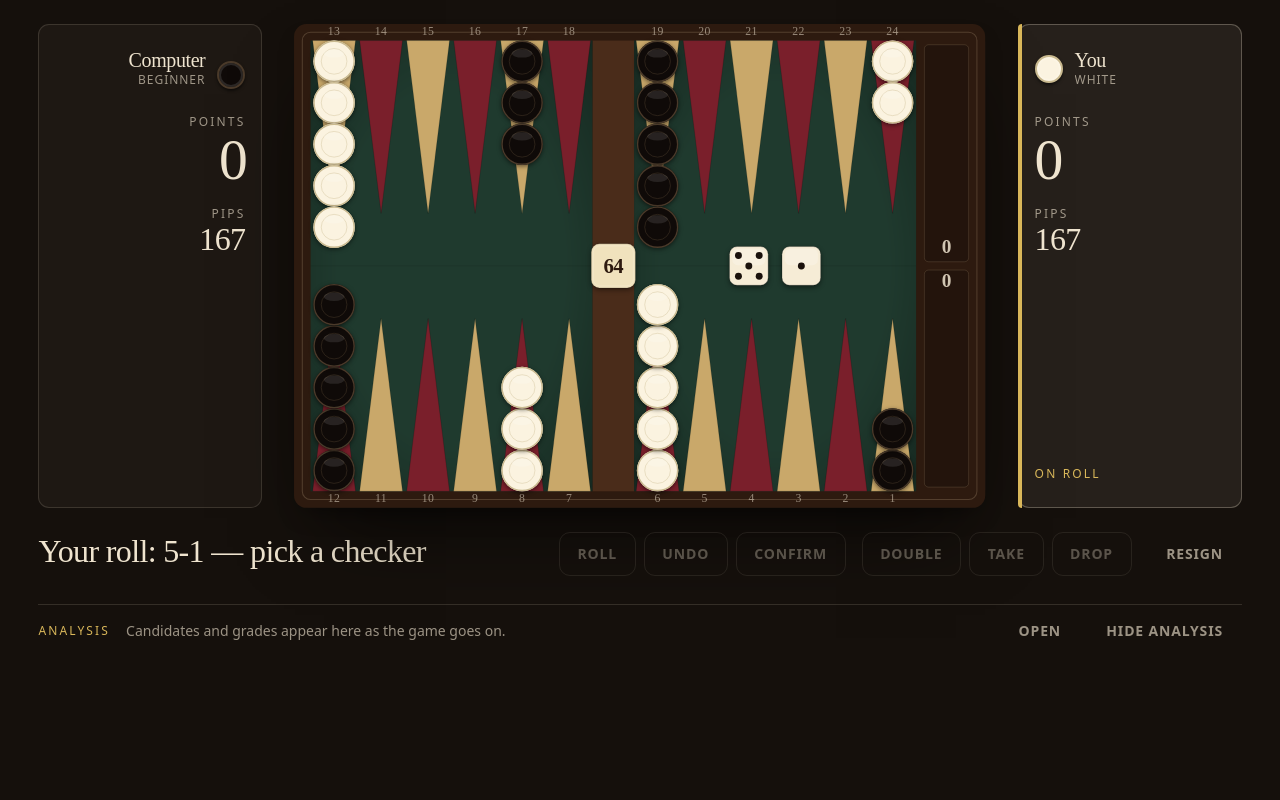
it: <TableLayout> › offers Retry after an engine failure and keeps the error until it succeeds
This screenshot has width=1280, height=800.
Expected: the button "Retry" is not shown
Click the button named "Point 13": point(334, 153) [311, 41, 358, 266]
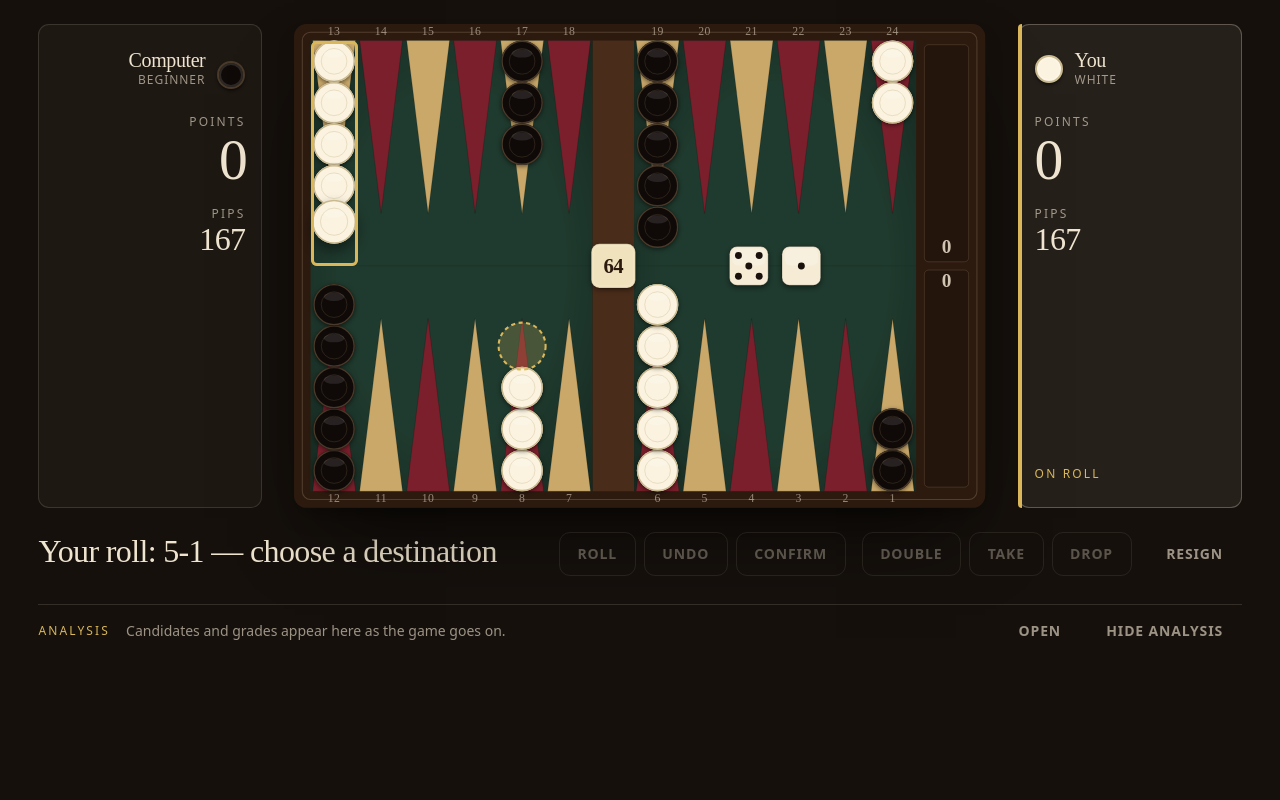
Click the button named "Point 8": point(522, 379) [499, 266, 546, 491]
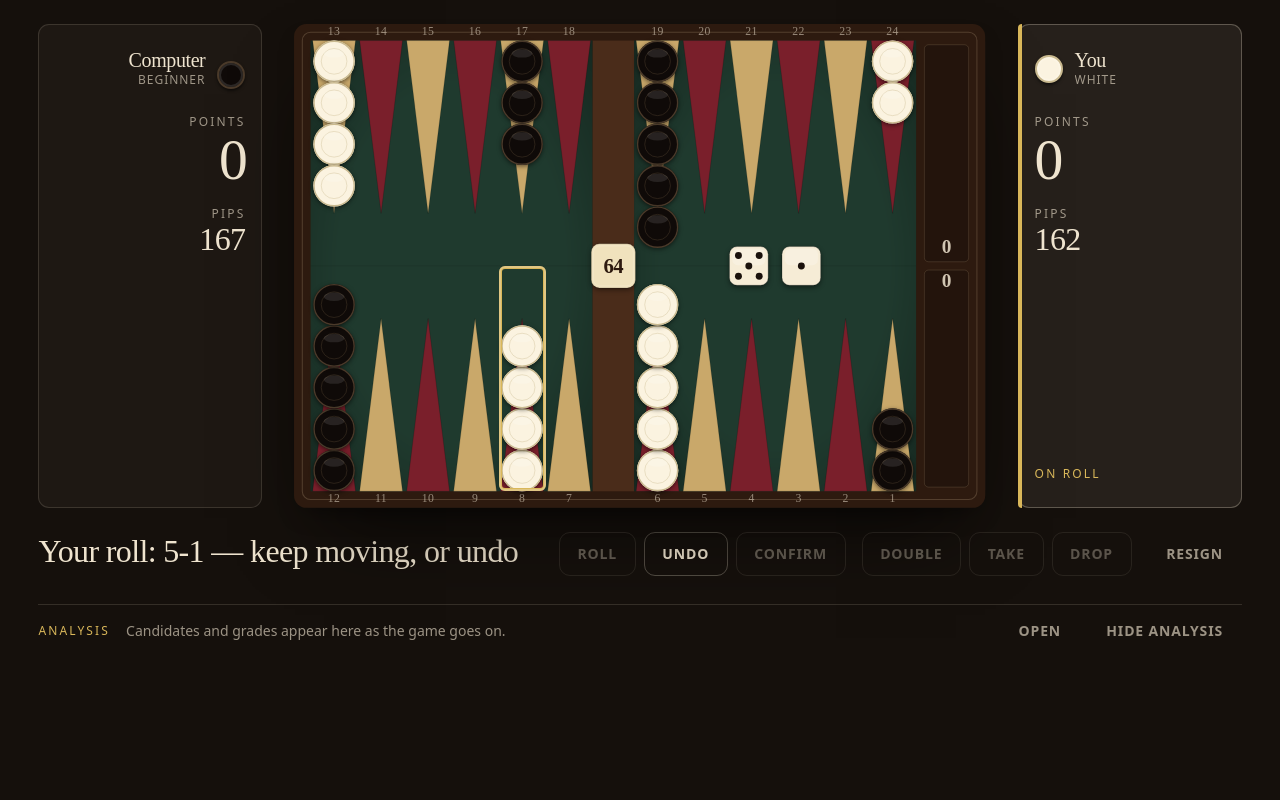
Click the button named "Point 6": point(658, 379) [634, 266, 682, 491]
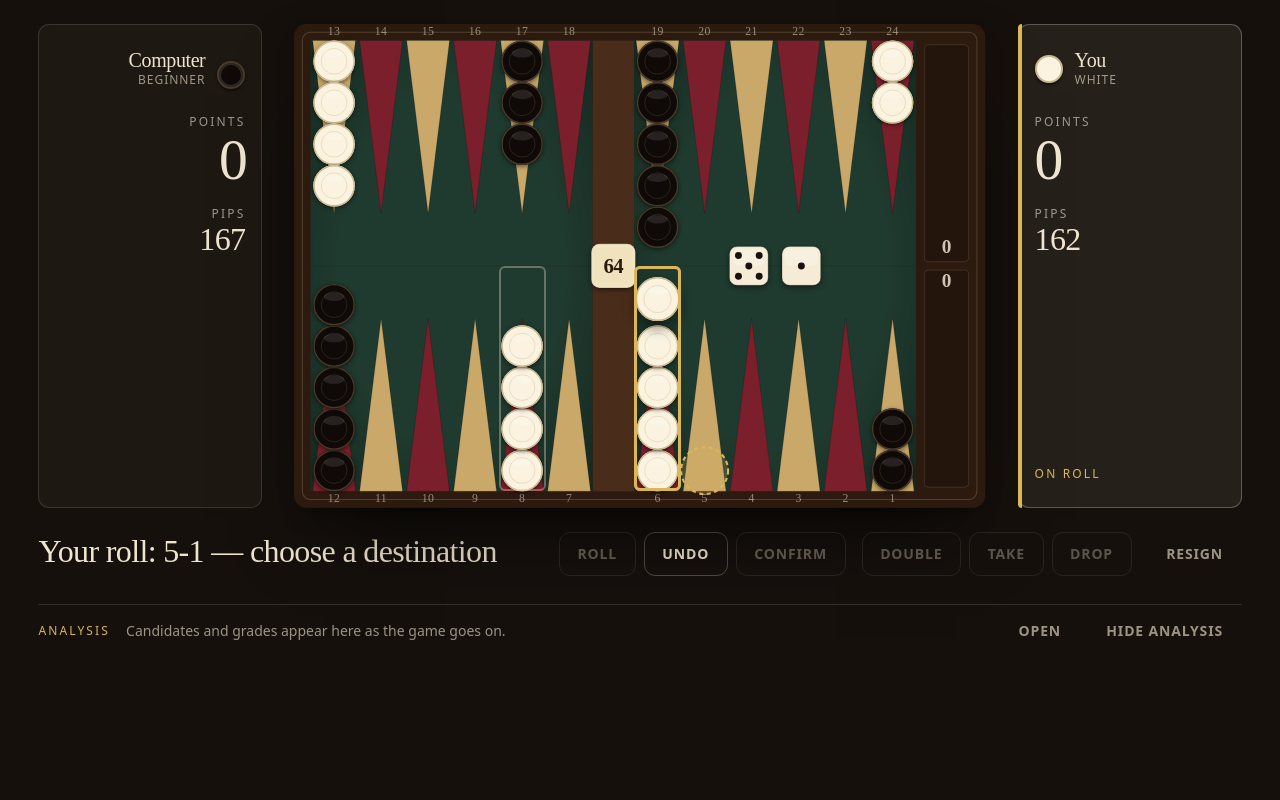
Click the button named "Point 5": point(705, 379) [682, 266, 728, 491]
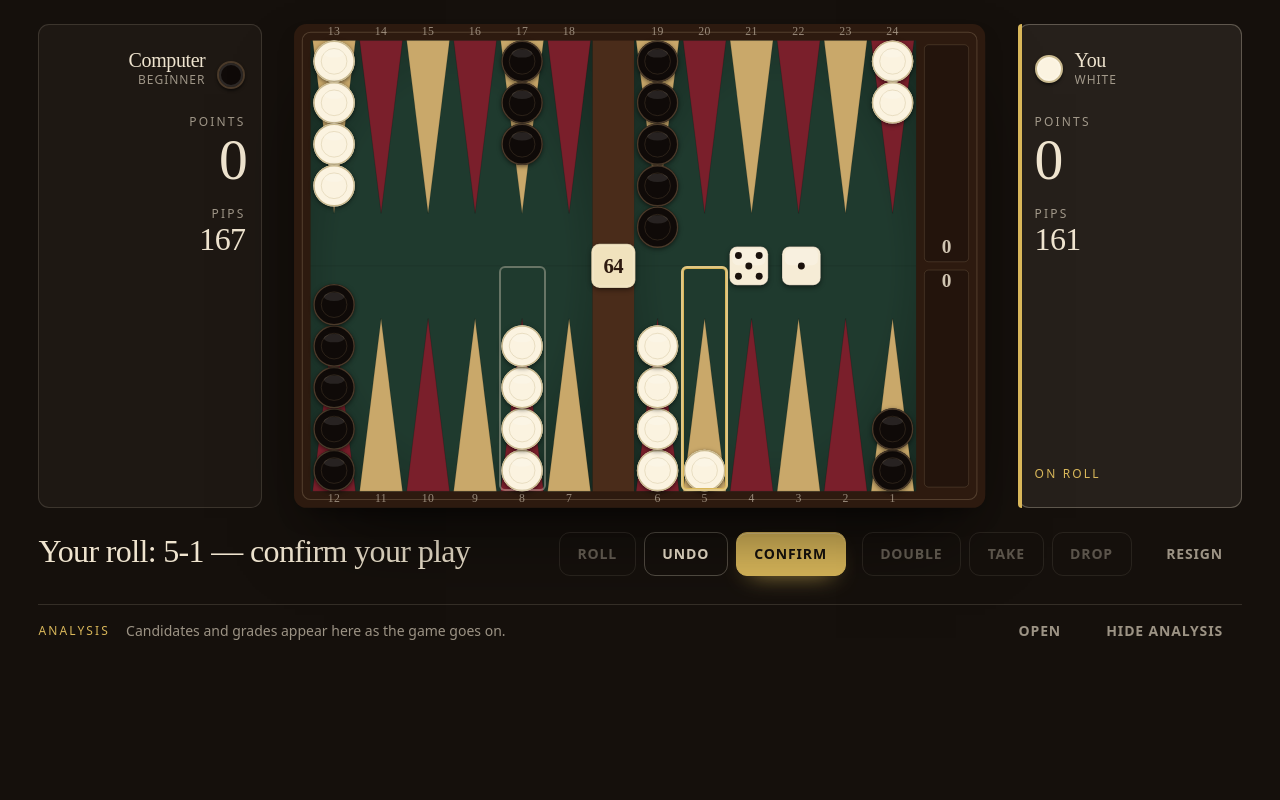
Click the button "Confirm": point(791, 554) [736, 532, 846, 576]
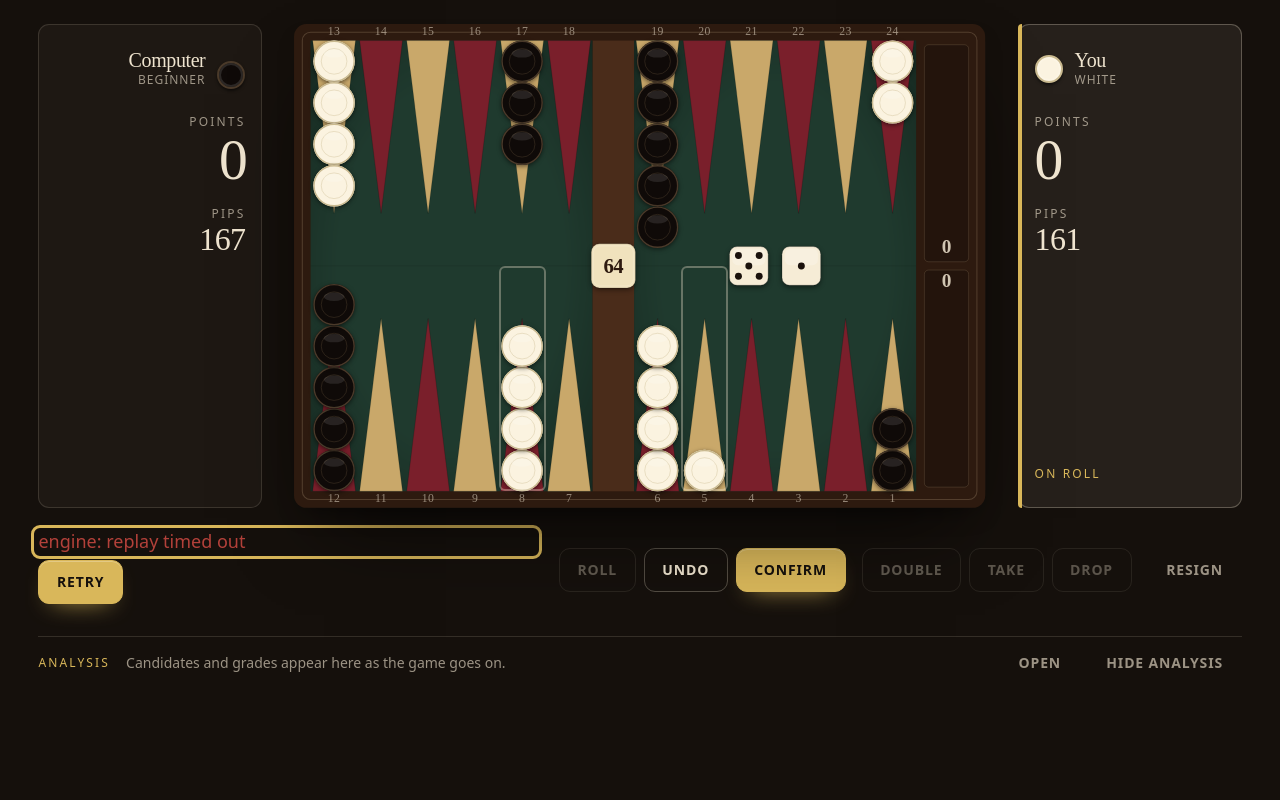
Expected: the message shows "replay timed out", [38, 529, 246, 553]
Expected: the button "Retry" is enabled
Click the button "Retry": point(81, 582) [38, 560, 123, 604]
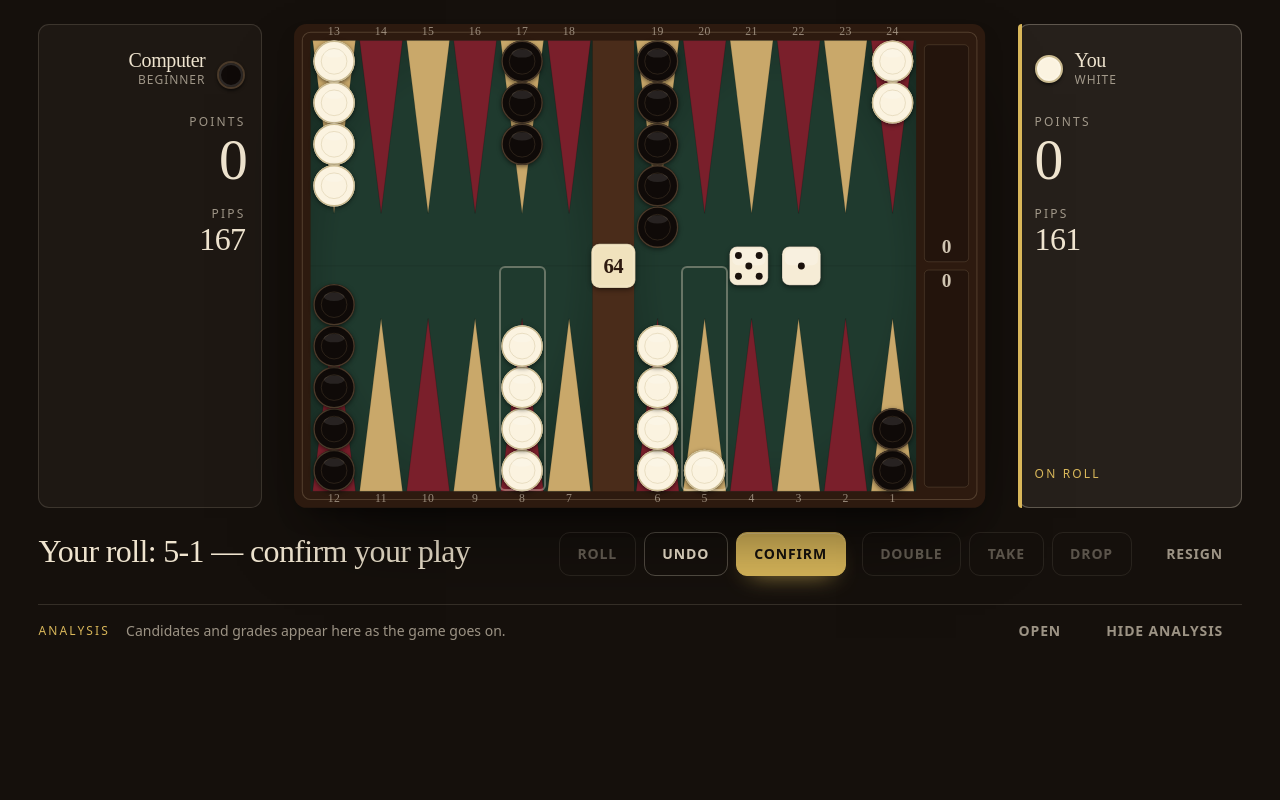
Expected: the button "Retry" is gone
